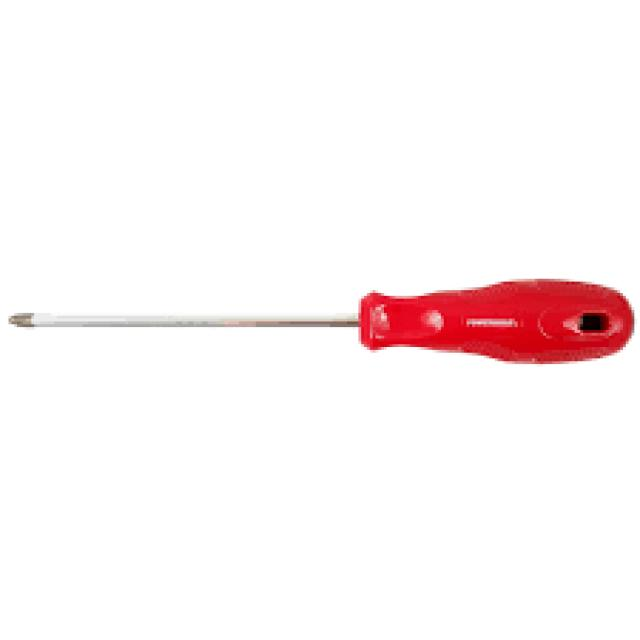screw driver: (8, 253, 640, 402)
